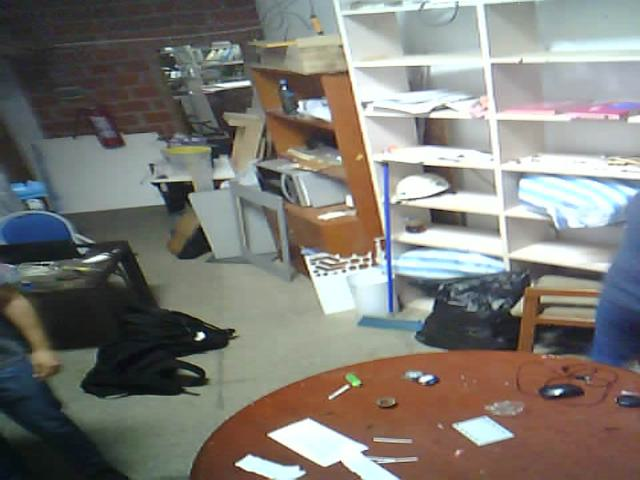person: (0, 272, 158, 479)
